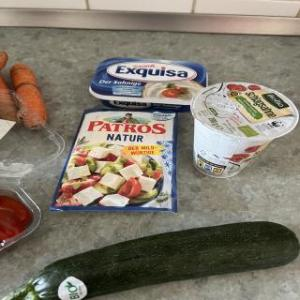carrot: (6, 56, 60, 136)
cucumber: (11, 216, 300, 300)
